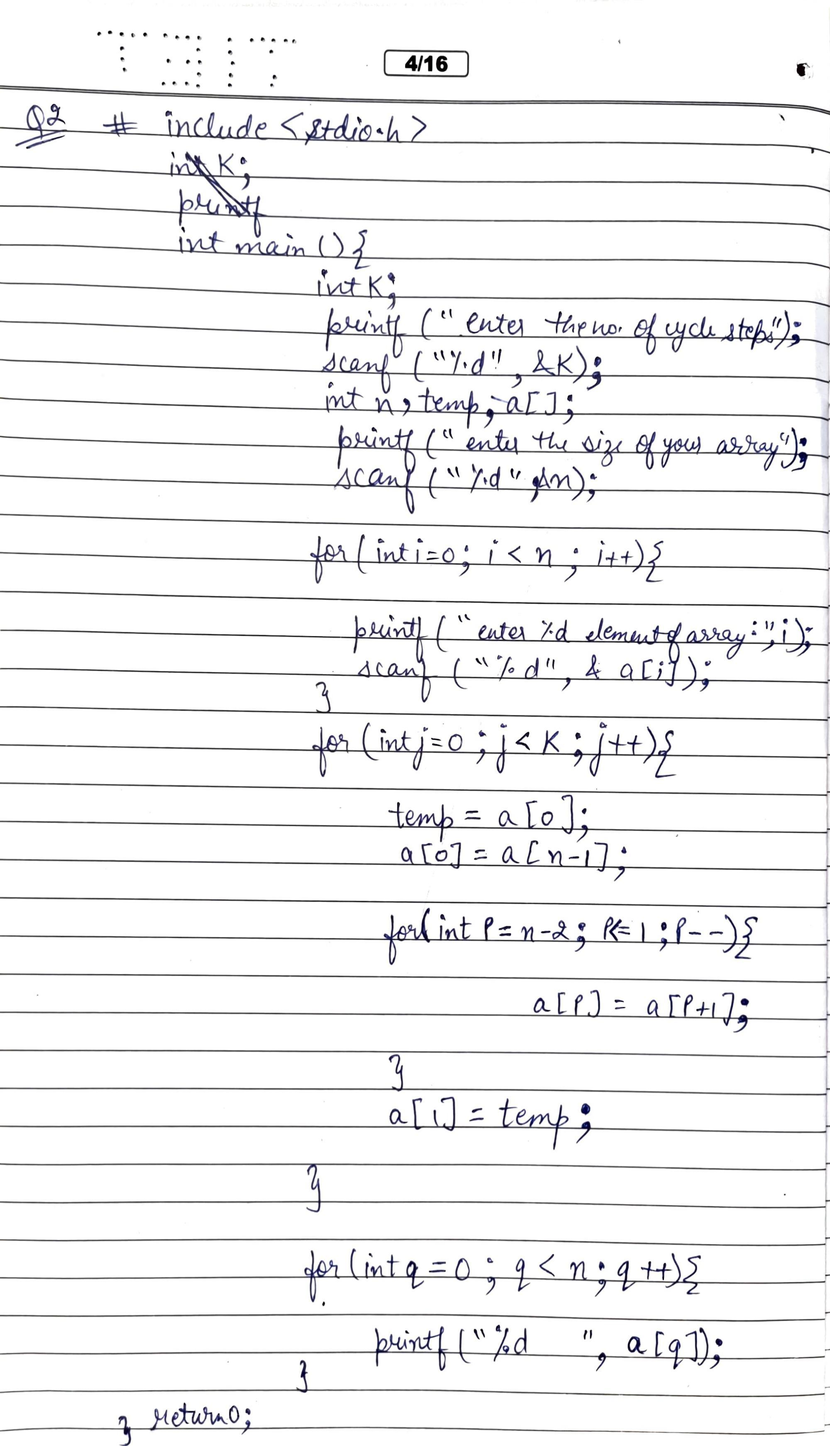cuttings: (168, 148, 269, 240)
